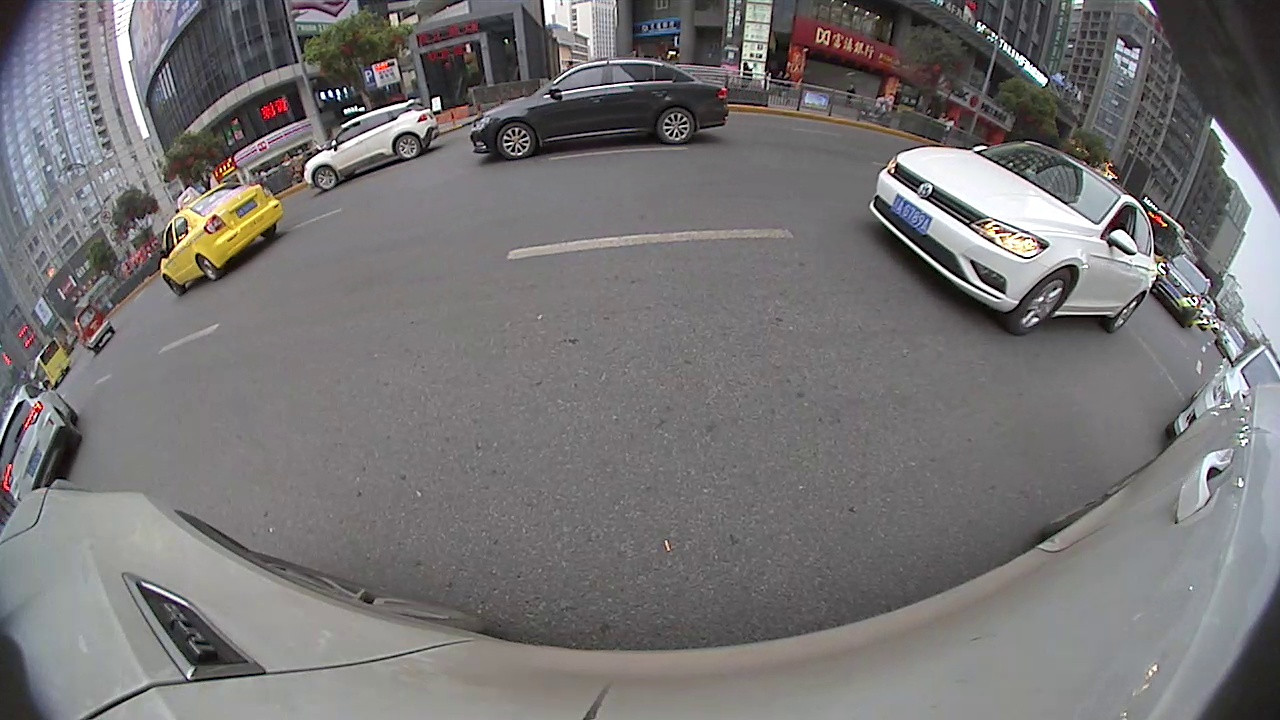car: (867, 137, 1161, 338), (467, 57, 734, 164), (156, 182, 287, 301), (299, 99, 441, 194), (1167, 341, 1276, 447), (2, 376, 81, 510), (1153, 250, 1213, 328)
front: (1005, 266, 1072, 340), (495, 120, 536, 163), (311, 164, 340, 192)
rear: (1105, 290, 1144, 335), (657, 108, 695, 148), (394, 133, 423, 162), (196, 252, 221, 283)
